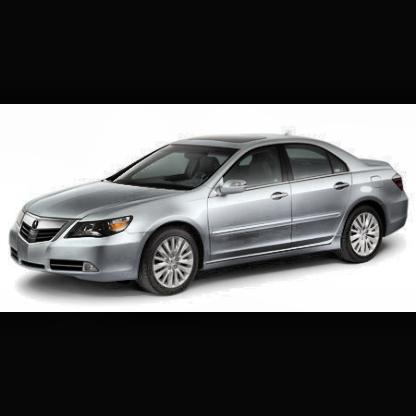Acura RL Sedan 2012: (8, 131, 411, 301)
